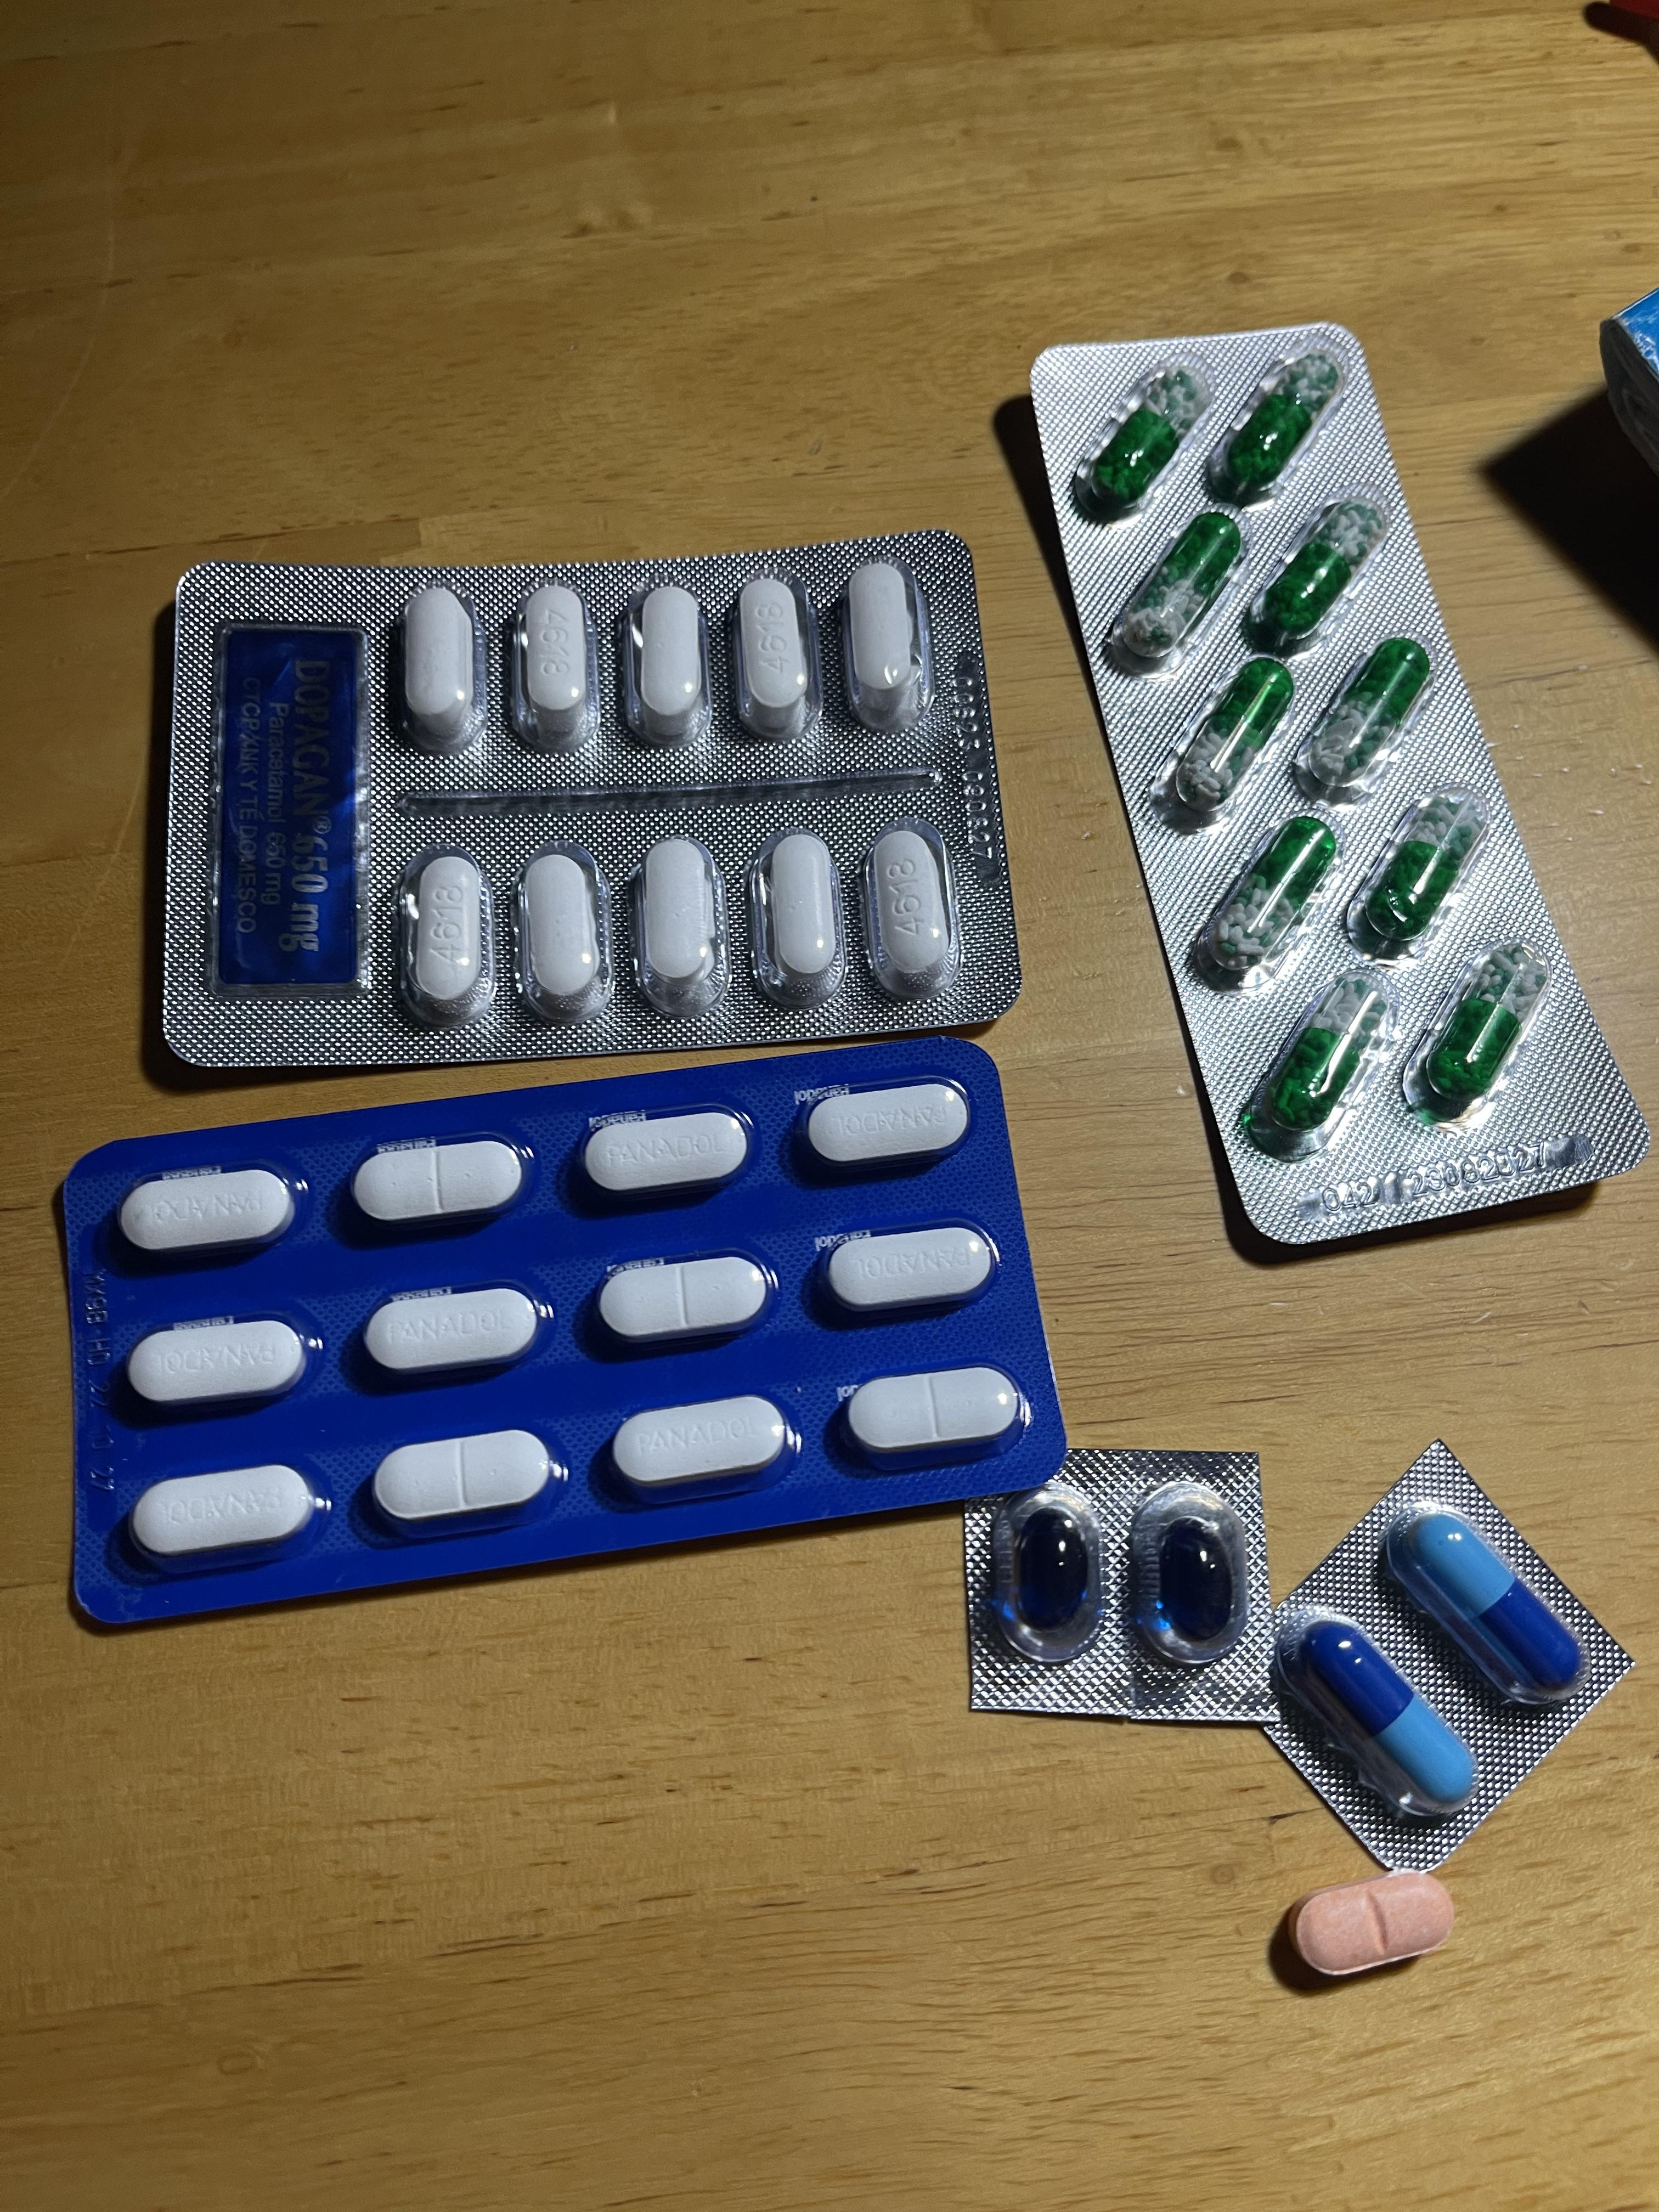Lincomyxin_500mg: (1157, 1515, 1234, 1641), (1018, 1508, 1091, 1632)
Loratadine_10mg: (1286, 1869, 1457, 1979)
Paracetamol_350mg: (129, 1463, 322, 1564), (371, 1430, 558, 1533), (612, 1395, 793, 1498), (817, 1221, 1000, 1320), (845, 1360, 1025, 1461), (125, 1315, 314, 1411), (364, 1282, 547, 1379), (579, 1108, 755, 1204), (119, 1167, 298, 1259), (598, 1252, 774, 1346), (352, 1136, 528, 1228), (802, 1080, 971, 1170)
Paracetamol_500mg: (390, 846, 495, 1028), (864, 820, 960, 1001), (843, 561, 932, 733), (403, 587, 481, 752), (518, 585, 594, 749), (735, 575, 810, 733), (643, 838, 716, 991), (525, 852, 598, 1000), (769, 829, 840, 981), (638, 585, 706, 738)
Paracetamol_650mg: (1232, 965, 1399, 1160), (1410, 937, 1556, 1125), (1241, 486, 1392, 662), (1190, 815, 1340, 988), (1342, 784, 1488, 953), (1159, 657, 1297, 827), (1297, 637, 1434, 806), (1112, 509, 1246, 674), (1213, 345, 1349, 507), (1073, 354, 1202, 524)
pill: (1295, 1615, 1473, 1811), (1398, 1508, 1579, 1695)
